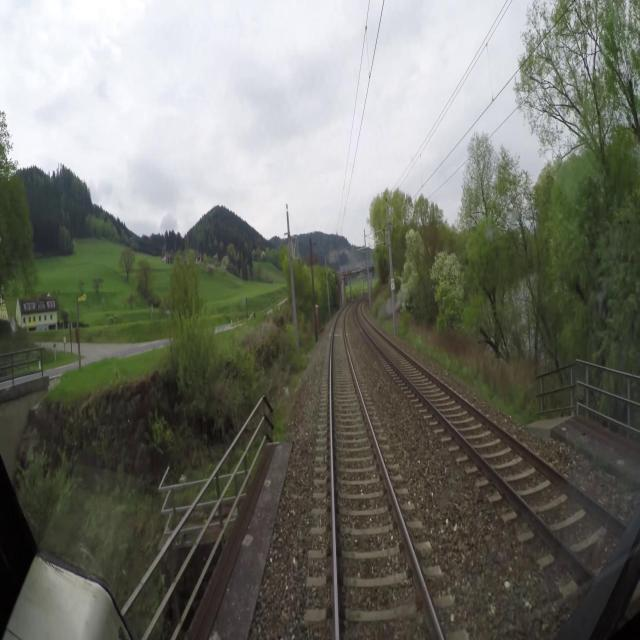rail-track: (357, 303, 620, 549), (332, 309, 440, 639)
